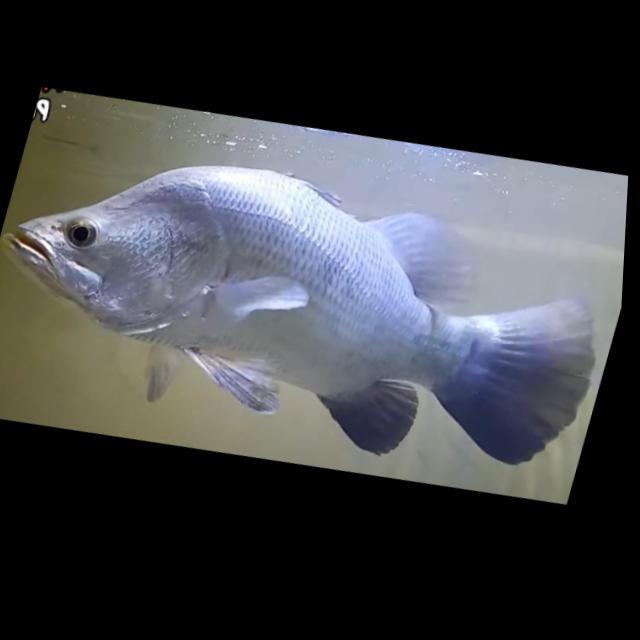Seabass: (0, 85, 633, 531)
